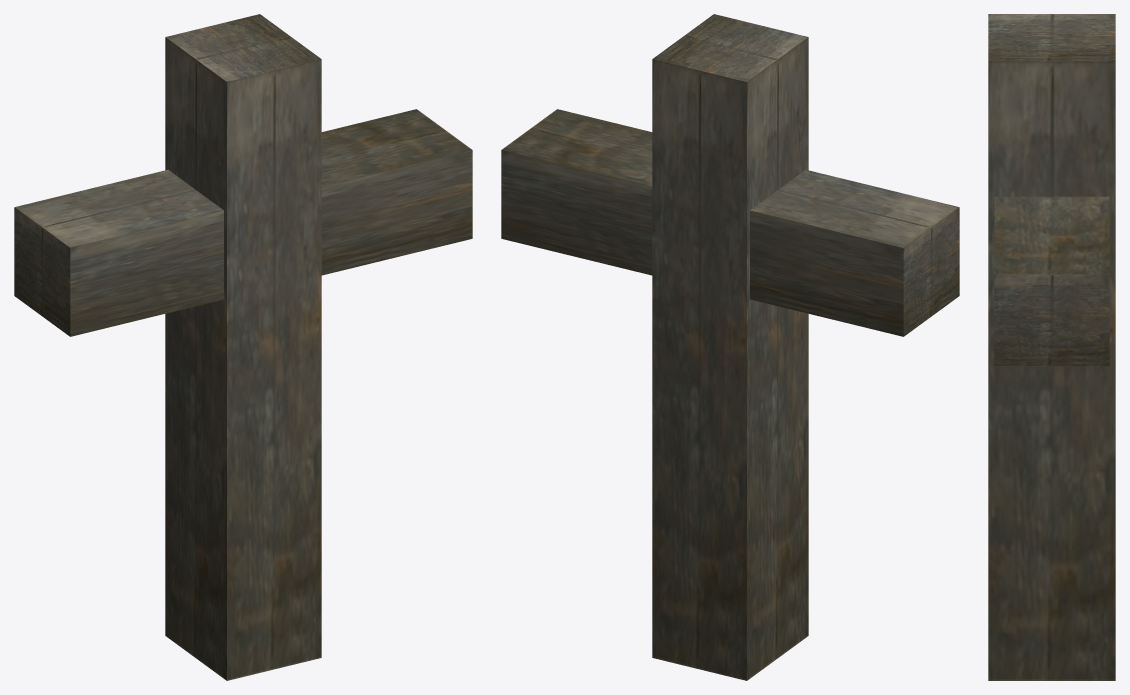
The model's file is cross.glb.
3 views of the same model, side by side, from view 1: azimuth 30°, elevation 25°; view 2: azimuth 150°, elevation 25°; view 3: azimuth 270°, elevation 25° (orthographic). The views are drawn at different scales.
Parts seen in each view (by area): view 1: cross.ms3d.mo; view 2: cross.ms3d.mo; view 3: cross.ms3d.mo.
Part boxes in pixels (x1=…): cross.ms3d.mo: x1=14, y1=14, x2=472, y2=680; cross.ms3d.mo: x1=501, y1=14, x2=959, y2=680; cross.ms3d.mo: x1=988, y1=14, x2=1115, y2=680.
Size of the model in its own units: 17.75 by 25.25 by 4.71.
1 material, 1 textured.
